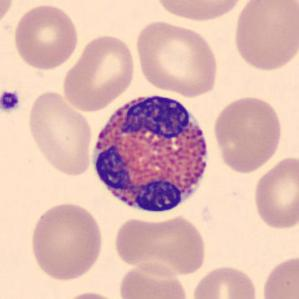Eosinophil: (85, 85, 218, 221)
Platelets: (0, 88, 22, 114)
RBC: (133, 18, 220, 98), (24, 88, 96, 178), (28, 200, 106, 283), (111, 212, 209, 277), (60, 32, 137, 113), (211, 93, 285, 175), (11, 1, 81, 72), (230, 0, 298, 73), (251, 153, 298, 231), (116, 259, 190, 299), (190, 263, 260, 299), (152, 0, 249, 23), (259, 252, 298, 299), (57, 289, 127, 299), (0, 0, 16, 33)
